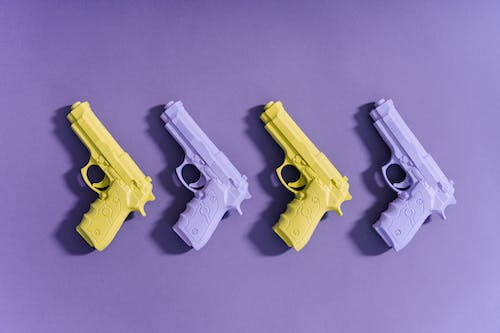gun: (257, 99, 354, 254), (157, 98, 253, 254), (366, 95, 458, 254), (64, 98, 156, 255)
